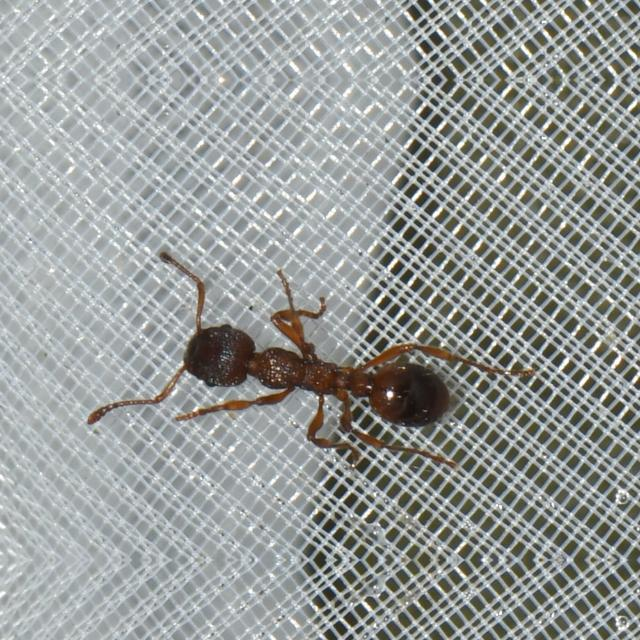Myrmica: (126, 272, 484, 478)
